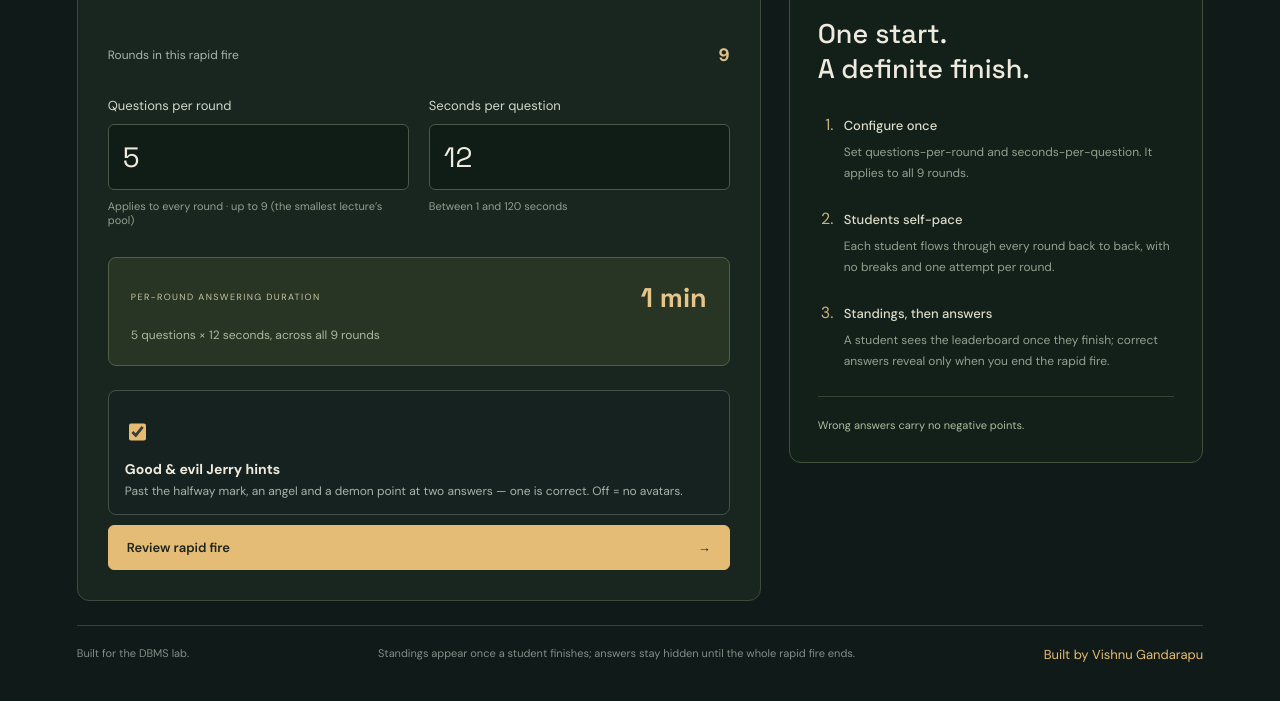
Instructor setup preview › carries the Jerry-hints choice into the live monitor
(page scrolled)
Click the checkbox labelled "Jerry hints" at (137, 432), box x1=129 y1=408 x2=146 y2=456
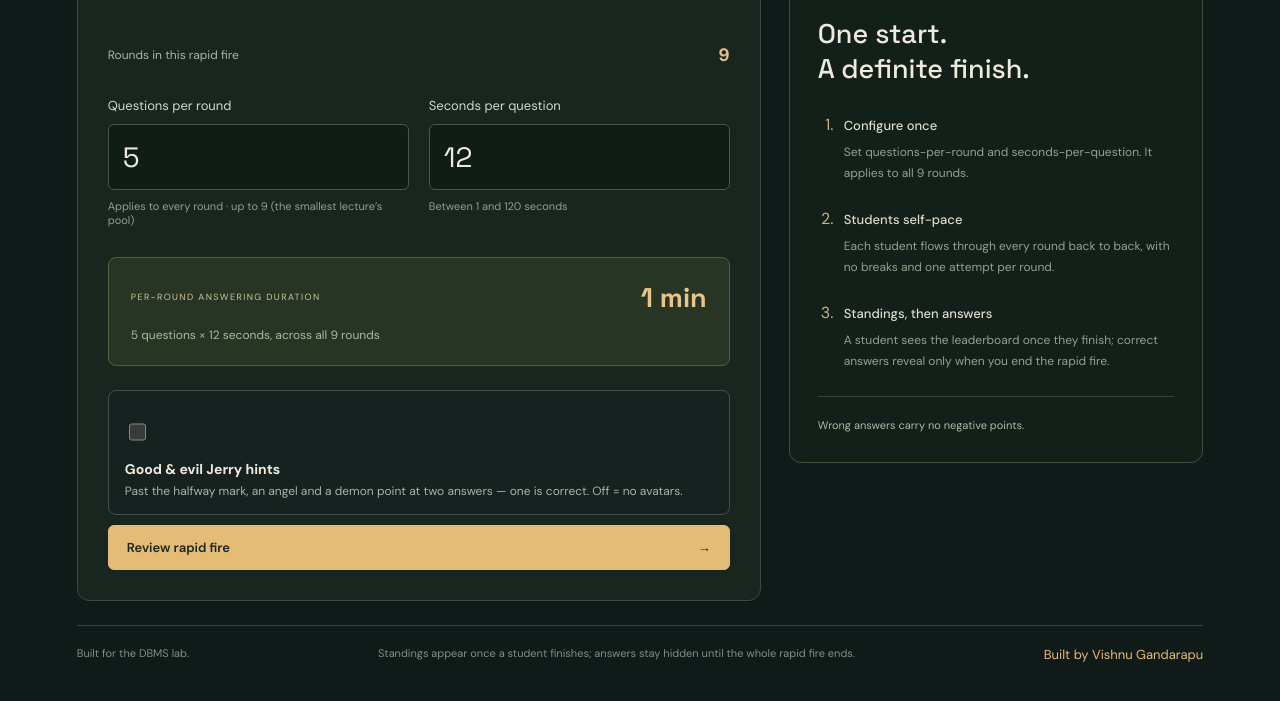
Click the button "Review rapid fire →" at (178, 547), box x1=108 y1=525 x2=730 y2=570
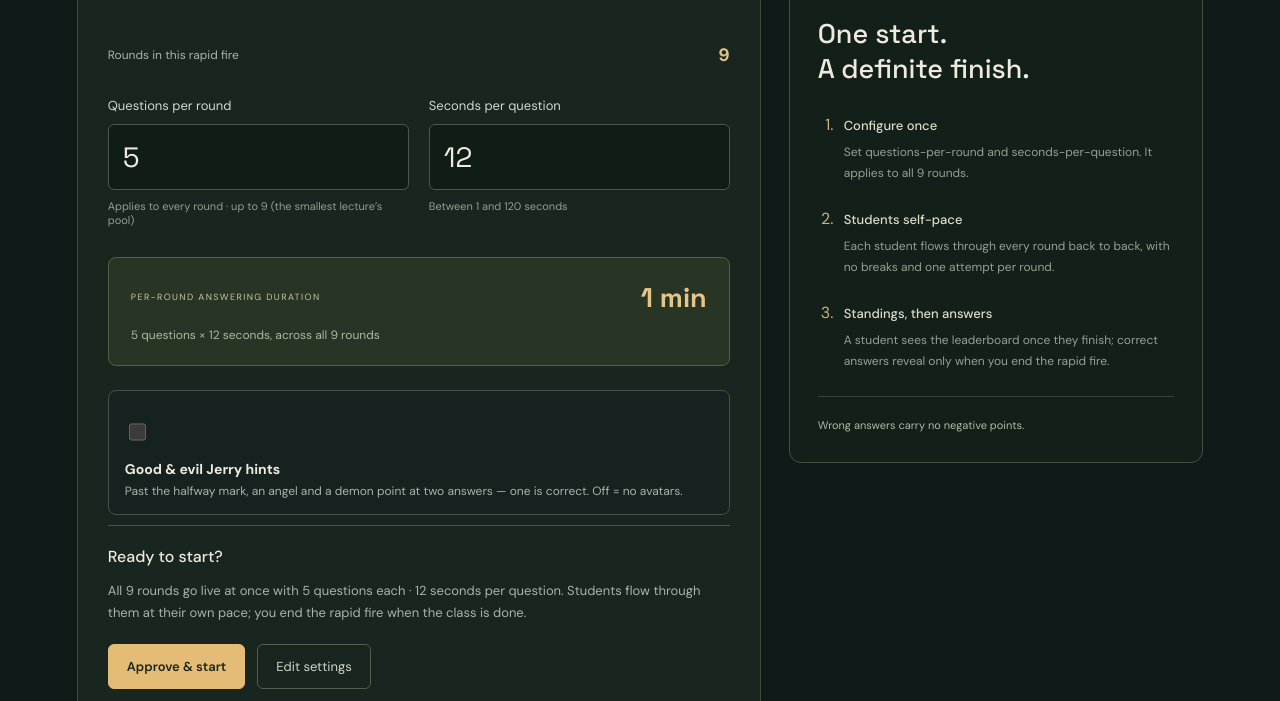
Click the button "Approve & start" at (177, 666), box x1=108 y1=644 x2=245 y2=689
(page scrolled)
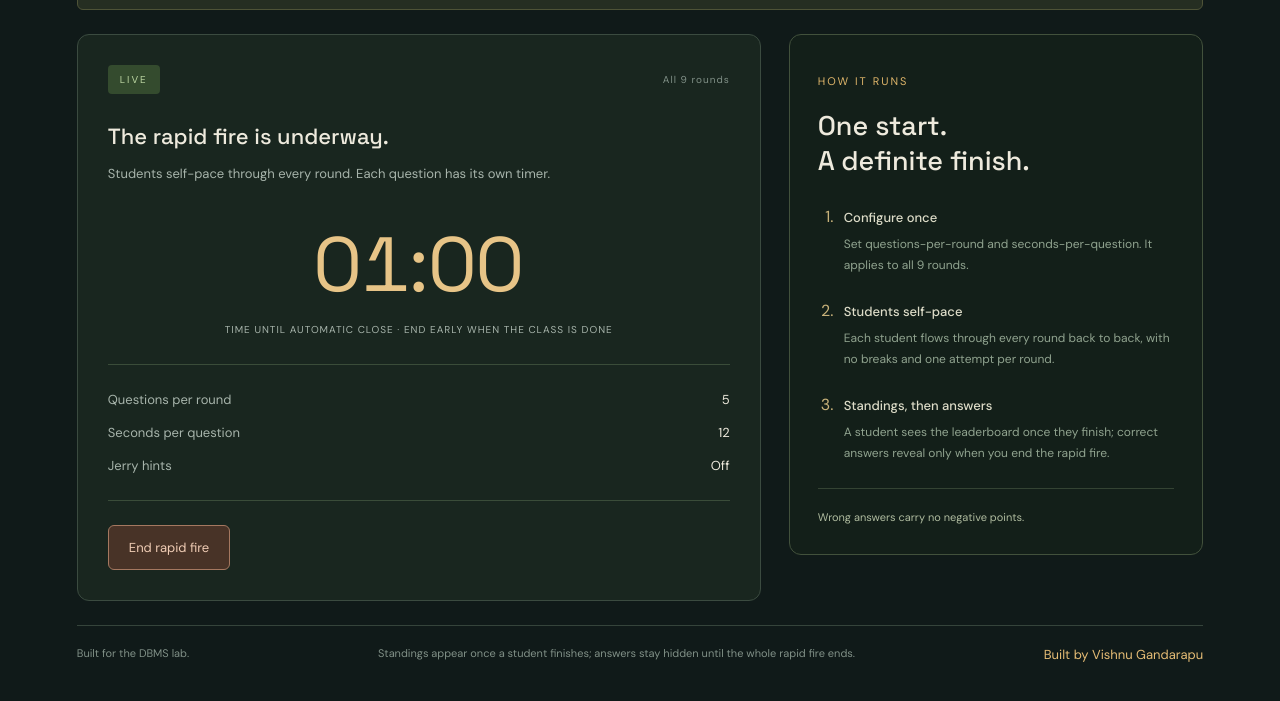
Check: the heading "The rapid fire is underway." is shown, box x1=108 y1=122 x2=389 y2=150
Check: the text "Jerry hints" shows "Off", box x1=711 y1=457 x2=730 y2=474
